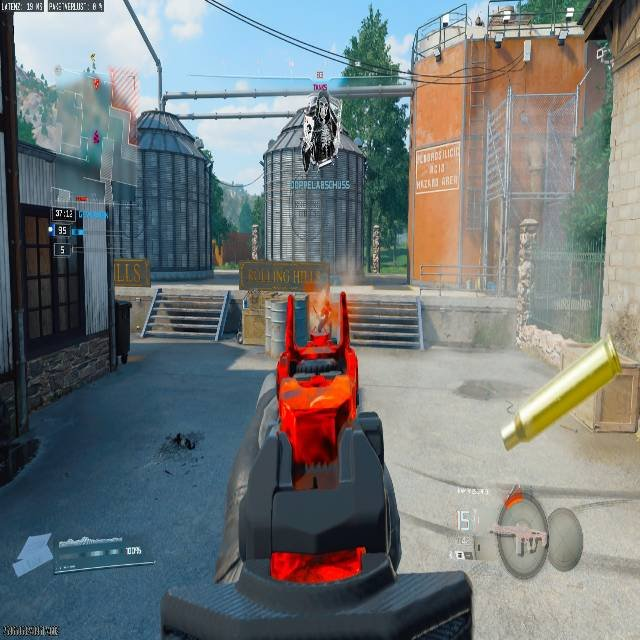player: (300, 91, 339, 170)
